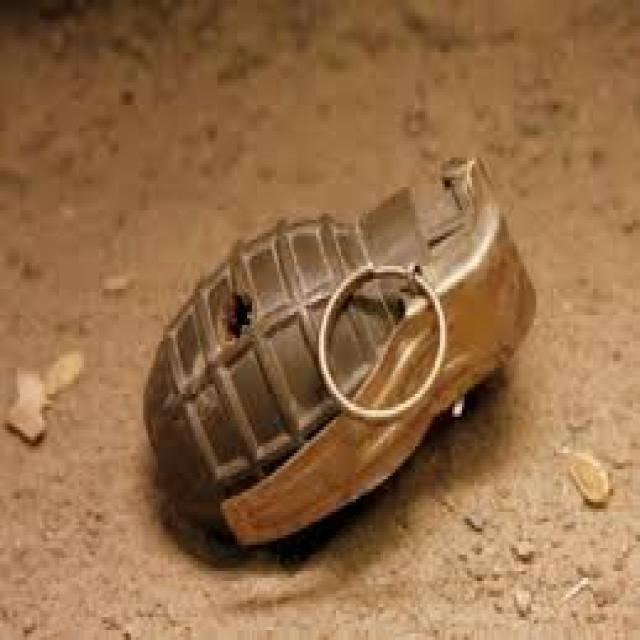grenade: (139, 147, 545, 577)
